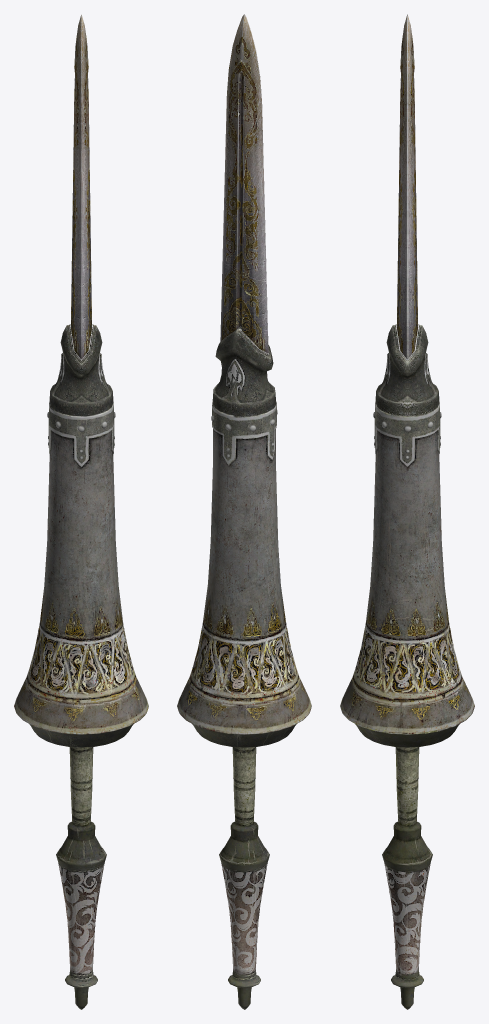
Rendered from bs_lan014.obj.
3 views of the same model, side by side, from view 1: azimuth 90°, elevation 25°; view 2: azimuth 150°, elevation 25°; view 3: azimuth 270°, elevation 25° (orthographic).
Visible parts, largest first — view 1: bs_lan014_001_LOD_1, bs_lan014_000_LOD_1, bs_lan014_002_LOD_1, bs_lan014_003_LOD_1; view 2: bs_lan014_001_LOD_1, bs_lan014_002_LOD_1, bs_lan014_000_LOD_1, bs_lan014_003_LOD_1; view 3: bs_lan014_001_LOD_1, bs_lan014_000_LOD_1, bs_lan014_002_LOD_1, bs_lan014_003_LOD_1.
Boxes of the visible parts, x1,y1,x2,y2 form: bs_lan014_001_LOD_1: [14, 403, 148, 747]; bs_lan014_000_LOD_1: [56, 747, 106, 1009]; bs_lan014_002_LOD_1: [71, 14, 91, 359]; bs_lan014_003_LOD_1: [49, 324, 113, 416]; bs_lan014_001_LOD_1: [177, 401, 311, 747]; bs_lan014_002_LOD_1: [220, 14, 268, 353]; bs_lan014_000_LOD_1: [219, 747, 269, 1009]; bs_lan014_003_LOD_1: [212, 326, 276, 415]; bs_lan014_001_LOD_1: [340, 403, 474, 747]; bs_lan014_000_LOD_1: [382, 747, 432, 1009]; bs_lan014_002_LOD_1: [397, 14, 417, 359]; bs_lan014_003_LOD_1: [375, 324, 439, 416].
Bounding box in the file's own units: 45.26 × 369 × 45.26.
